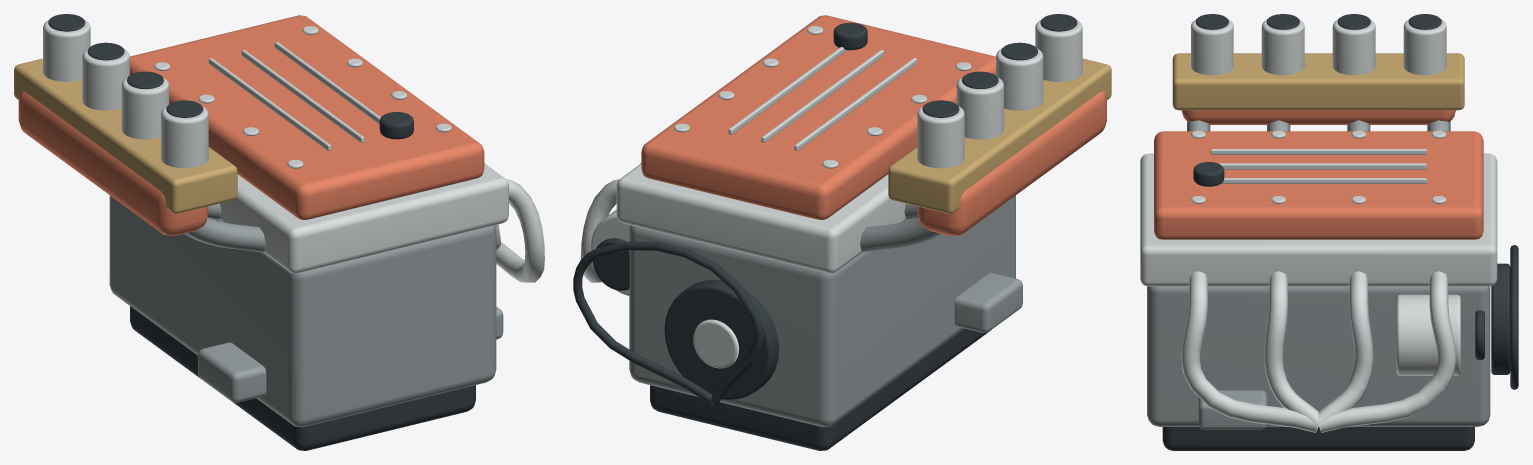
The model's file is engine_club.fbx.
3 views of the same model, side by side, from view 1: azimuth 30°, elevation 25°; view 2: azimuth 150°, elevation 25°; view 3: azimuth 270°, elevation 25° (orthographic). The views are drawn at different scales.
Visible parts, largest first — view 1: engine_club; view 2: engine_club; view 3: engine_club.
Boxes of the visible parts, x1,y1,x2,y2 form: engine_club: (14, 14, 544, 450); engine_club: (573, 14, 1111, 450); engine_club: (1140, 14, 1518, 450).
Size of the model in its own units: 99.14 by 81.25 by 88.2.
